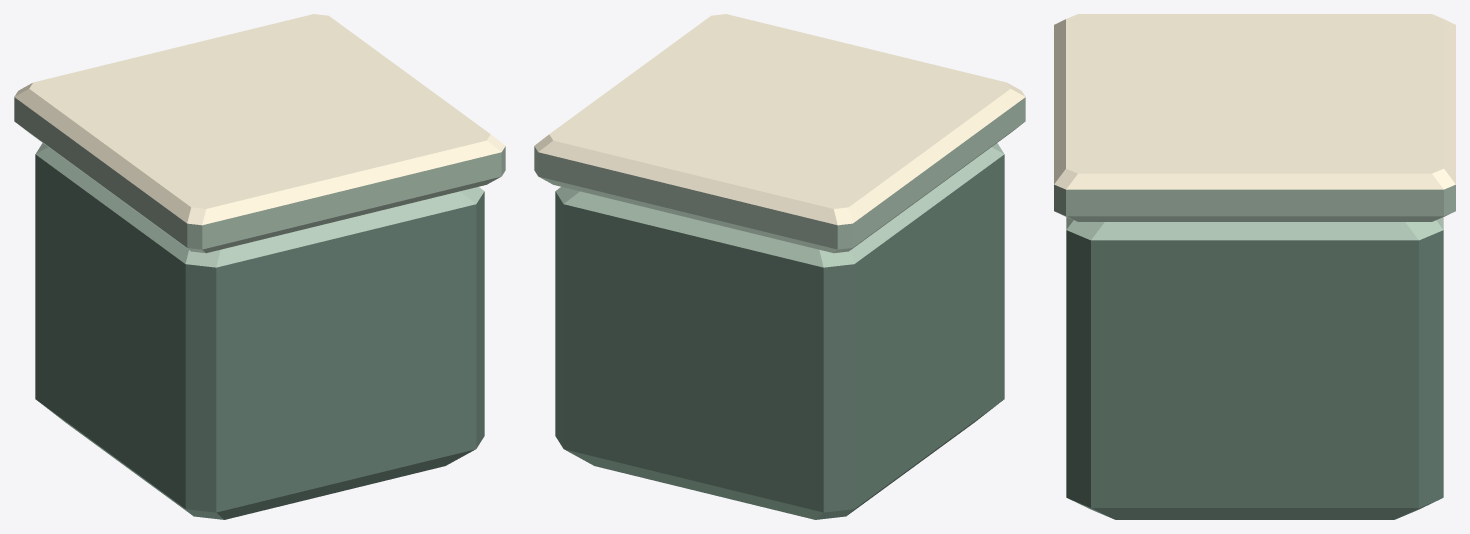
File: wall.gltf
3 renders of one model, left to right at view 1: azimuth 30°, elevation 25°; view 2: azimuth 150°, elevation 25°; view 3: azimuth 270°, elevation 25°, orthographic. The views are drawn at different scales.
Visible parts, largest first — view 1: wall; view 2: wall; view 3: wall.
Part boxes in pixels (x1,y1,x2,y2): wall: (14,14,505,519); wall: (534,14,1025,519); wall: (1054,14,1455,519).
Bounding box in the file's own units: 0.98 × 0.96 × 0.98.
Materials: 1 (1 with a texture image).
